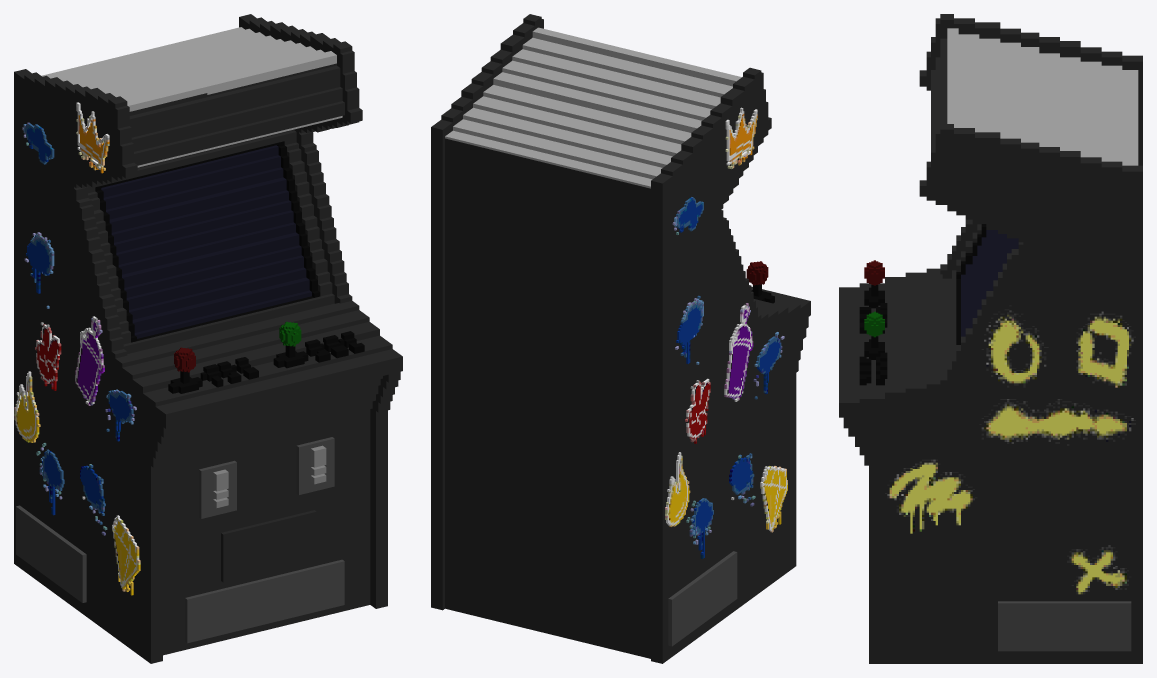
File: arcade_machine.fbx
The picture shows the model from 3 angles, left to right: view 1: azimuth 30°, elevation 25°; view 2: azimuth 150°, elevation 25°; view 3: azimuth 270°, elevation 25°; orthographic projection. The views are drawn at different scales.
Parts seen in each view (by area): view 1: Machine, collection-creative-graffiti-elements, hand-painted-spray-lines-drips-collection; view 2: Machine, collection-creative-graffiti-elements, hand-painted-spray-lines-drips-collection; view 3: Machine, image.
Part boxes in pixels (x1,y1,x2,y2): Machine: (14,14,402,663); collection-creative-graffiti-elements: (14,102,140,595); hand-painted-spray-lines-drips-collection: (22,122,136,535); Machine: (431,14,810,663); collection-creative-graffiti-elements: (665,107,787,532); hand-painted-spray-lines-drips-collection: (672,197,784,558); Machine: (839,14,1142,663); image: (885,305,1135,598).
Bounding box in the file's own units: 1230 × 2560 × 1320.
Materials: 4 (4 with a texture image).
